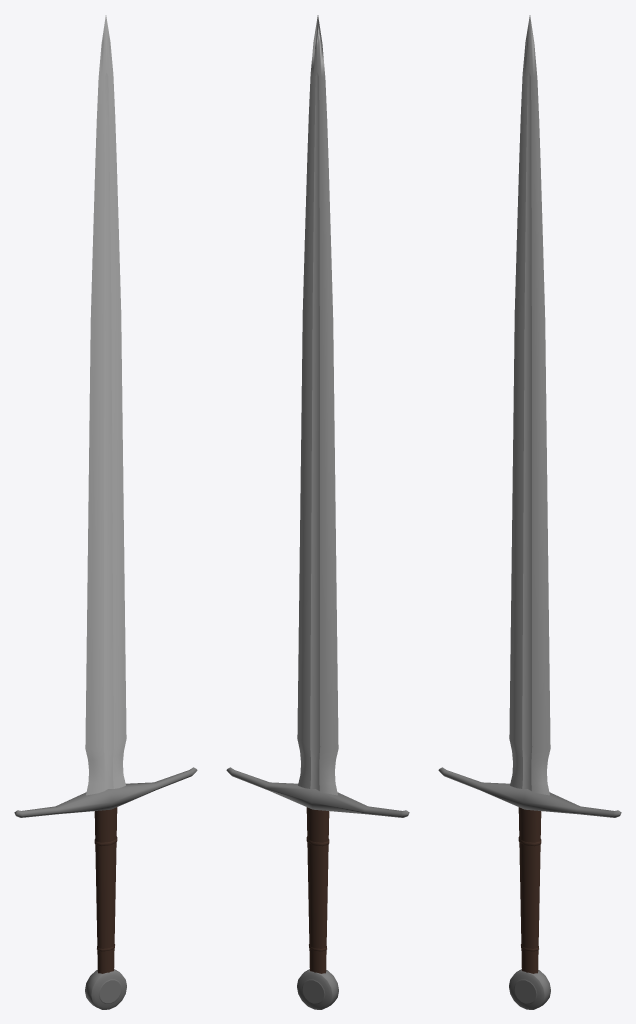
Rendered from longsword.gltf.
The picture shows the model from 3 angles, left to right: view 1: azimuth 30°, elevation 25°; view 2: azimuth 150°, elevation 25°; view 3: azimuth 330°, elevation 25°; orthographic projection.
Parts seen in each view (by area): view 1: Cube.001; view 2: Cube.001; view 3: Cube.001.
Boxes of the visible parts, bbox=[...] form: Cube.001: bbox=[14, 15, 197, 1009]; Cube.001: bbox=[226, 15, 409, 1009]; Cube.001: bbox=[438, 15, 621, 1009].
Size of the model in its own units: 0.2251 by 1.18 by 0.0283.
1 material, 1 textured.
